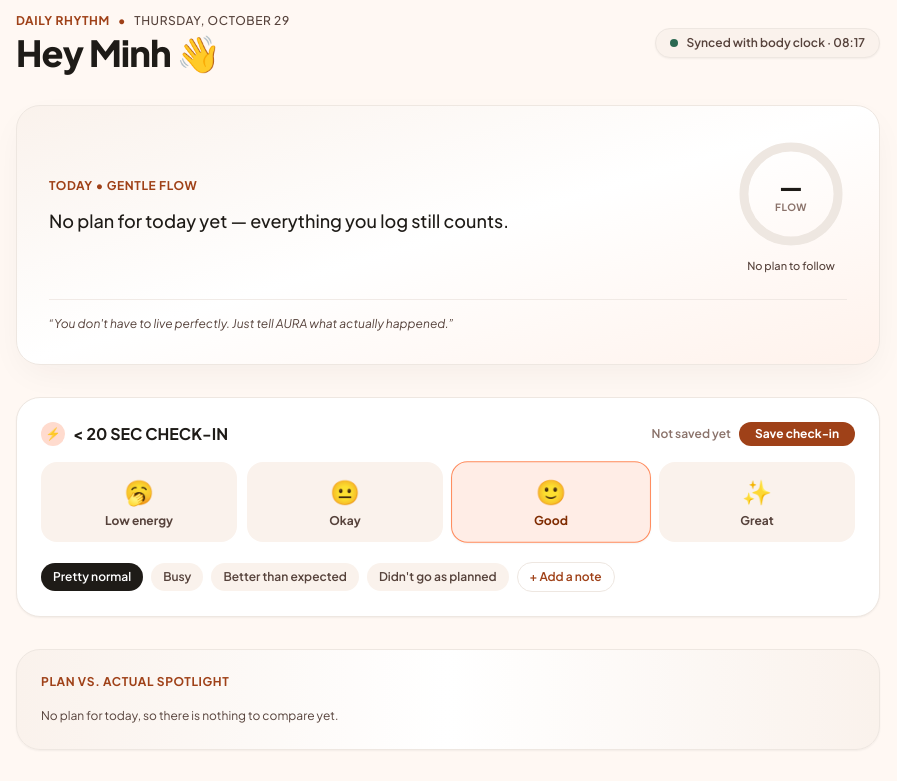
it: Check-in card › keeps every input after a failed save, and lets the person try again
The width and height of the screenshot is (897, 781).
Click the button "✨ Great". click: click(757, 502)
box: [659, 462, 855, 542]
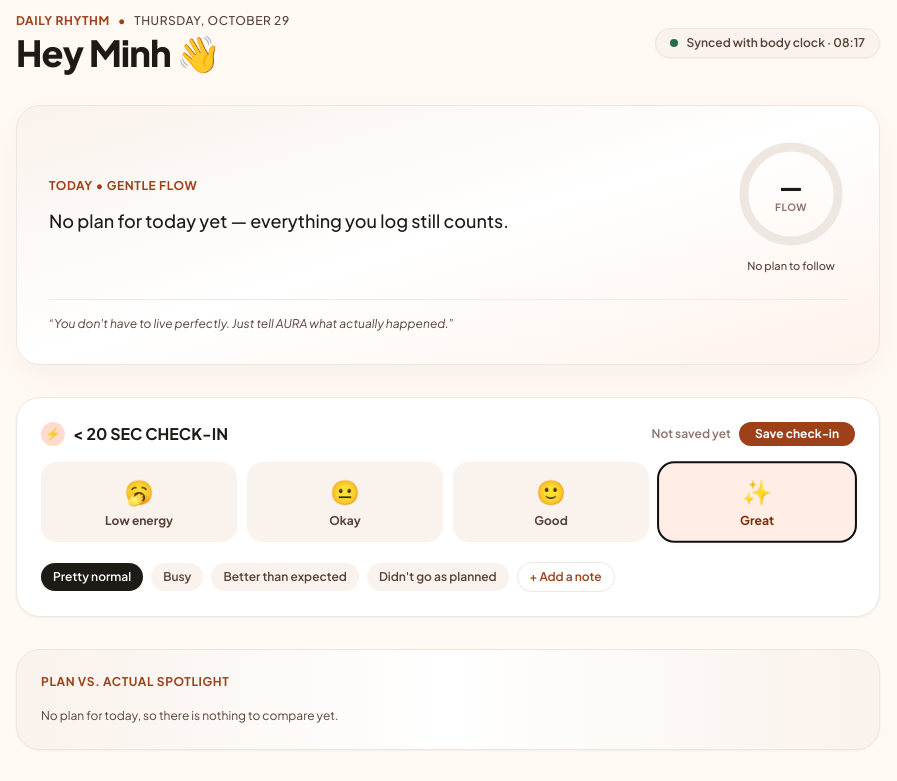
Click the button "Busy". click: click(177, 576)
box: [151, 562, 203, 590]
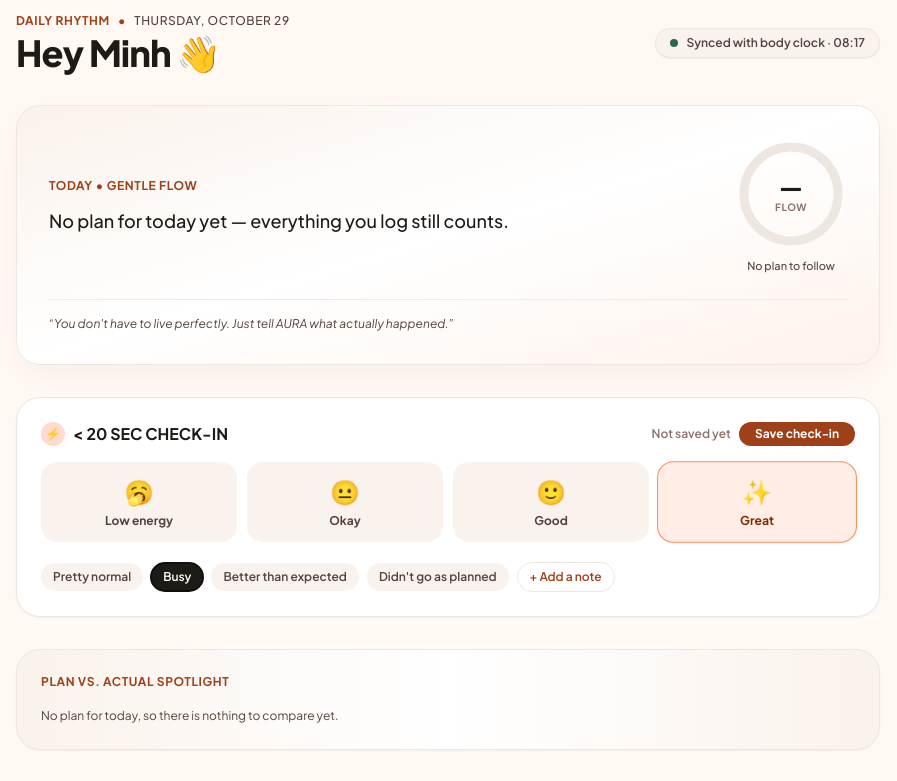
Click the button "+ Add a note". click: click(566, 576)
box: [517, 562, 614, 592]
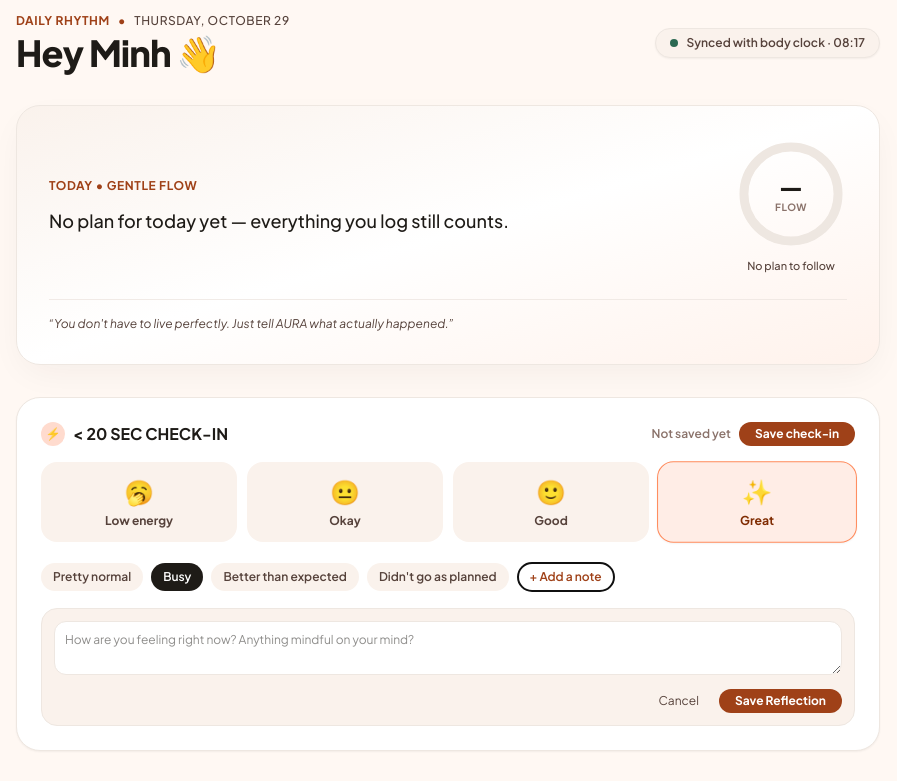
Type "keep me" into the text box with placeholder "How are you feeling". click: (448, 648)
box: [54, 620, 842, 674]
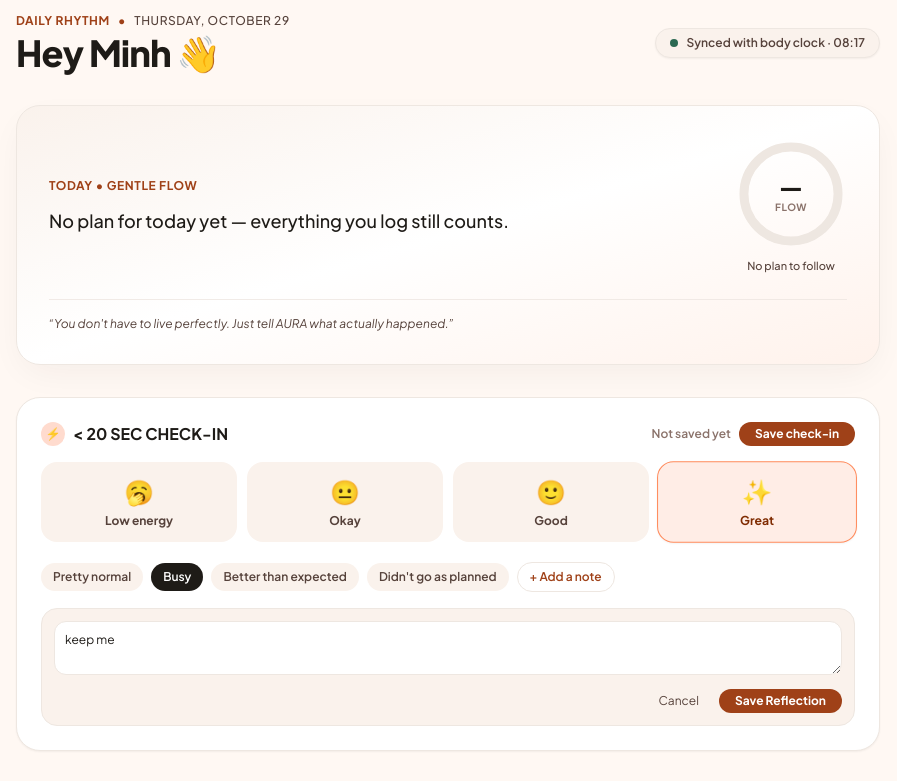
Click the button "Save check-in". click: click(797, 434)
box: [739, 422, 855, 446]
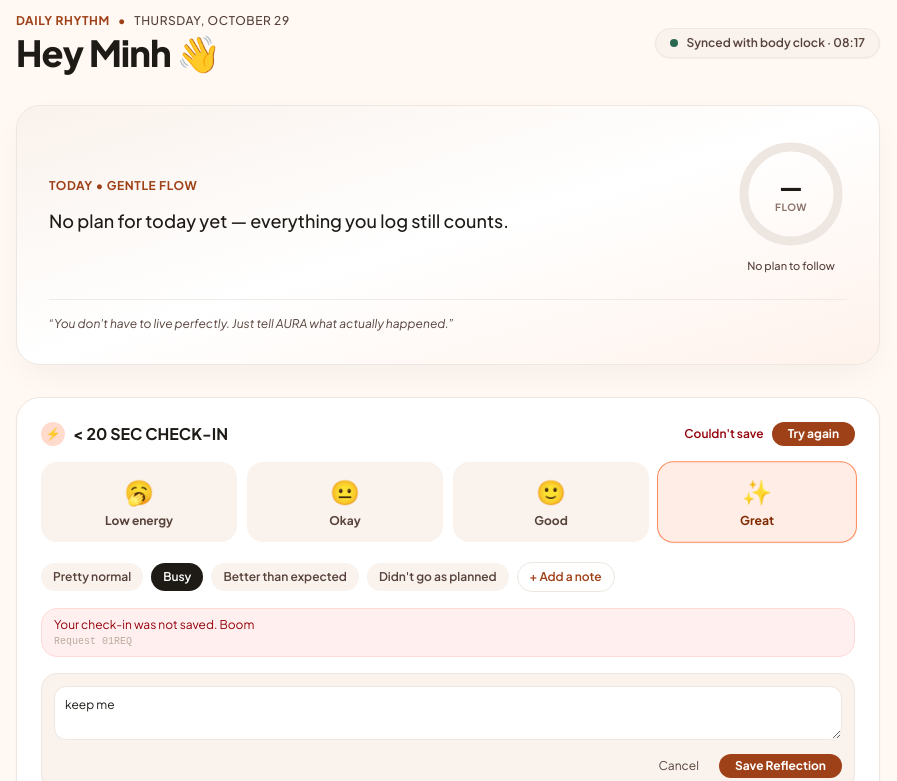
expect the message reads "Couldn't save": met, box [684, 426, 764, 440]
expect the text "Your check-in was not saved. Boom" is shown: met, box [54, 616, 254, 632]
expect the text "Request 01REQ" is shown: met, box [54, 636, 132, 646]
Click the button "Try again". click: click(813, 434)
box: [772, 422, 855, 446]
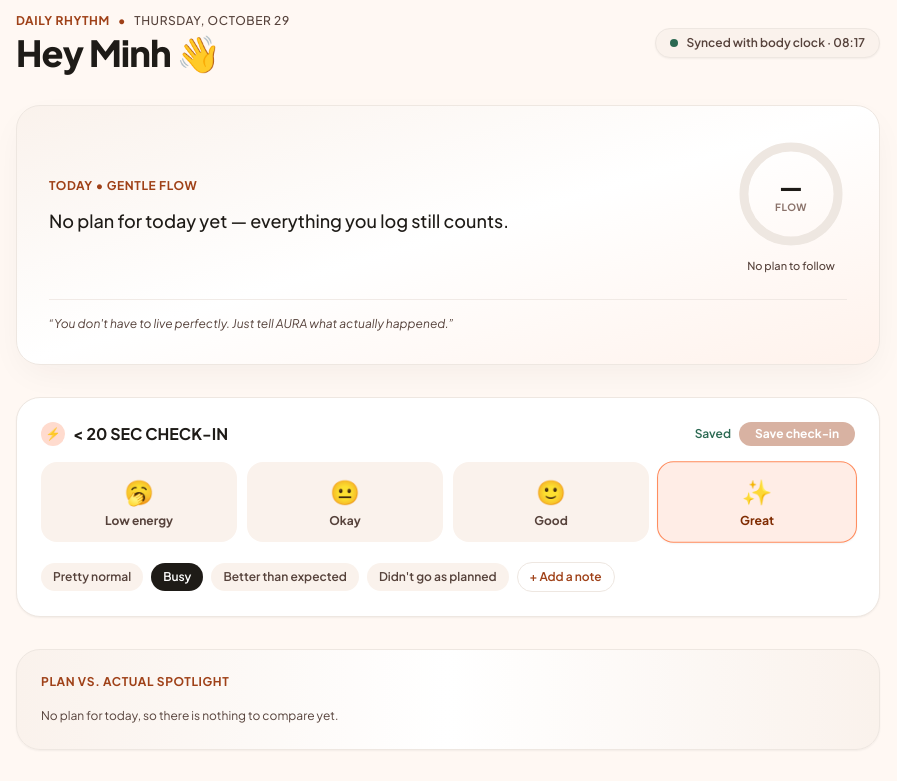
expect the message reads "Saved": met, box [695, 426, 731, 440]
